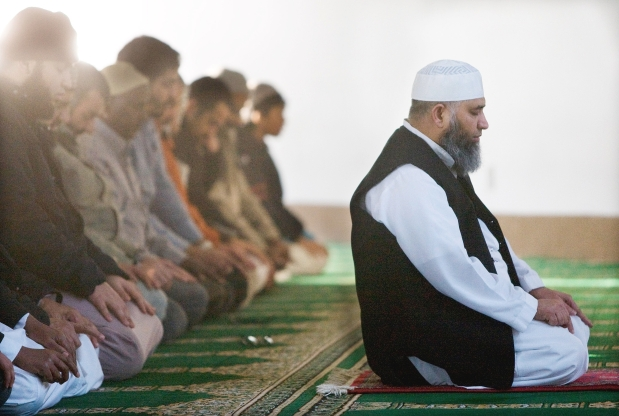sitting: (349, 59, 595, 389)
